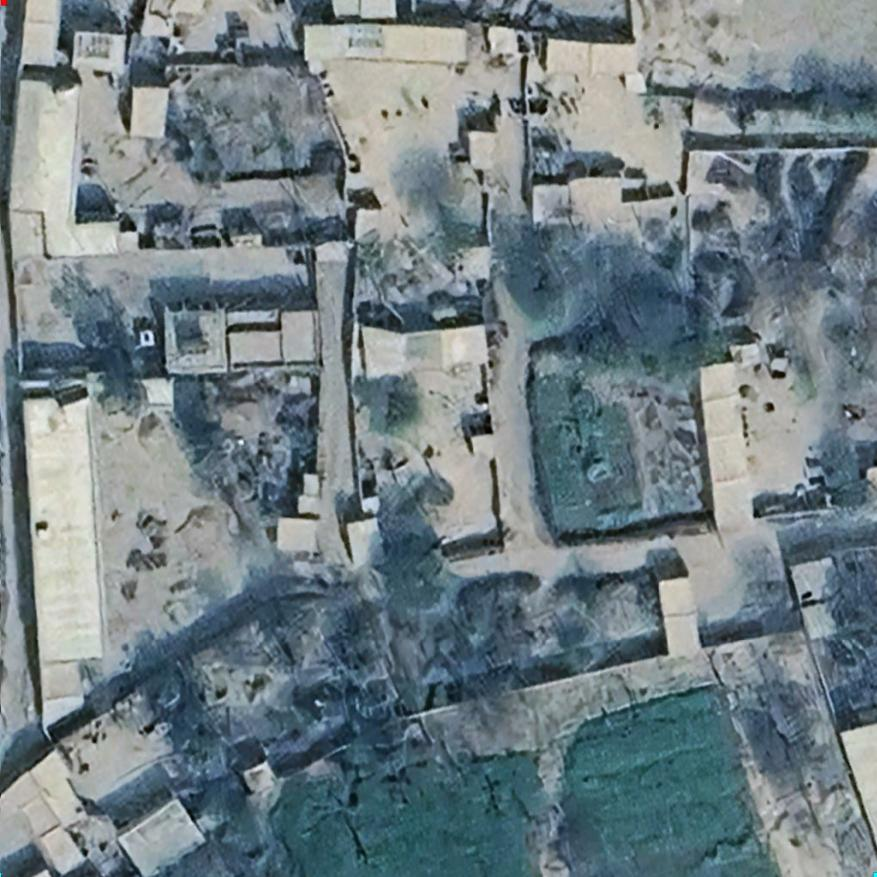Solarpanel: (344, 24, 383, 53), (77, 32, 115, 60)
